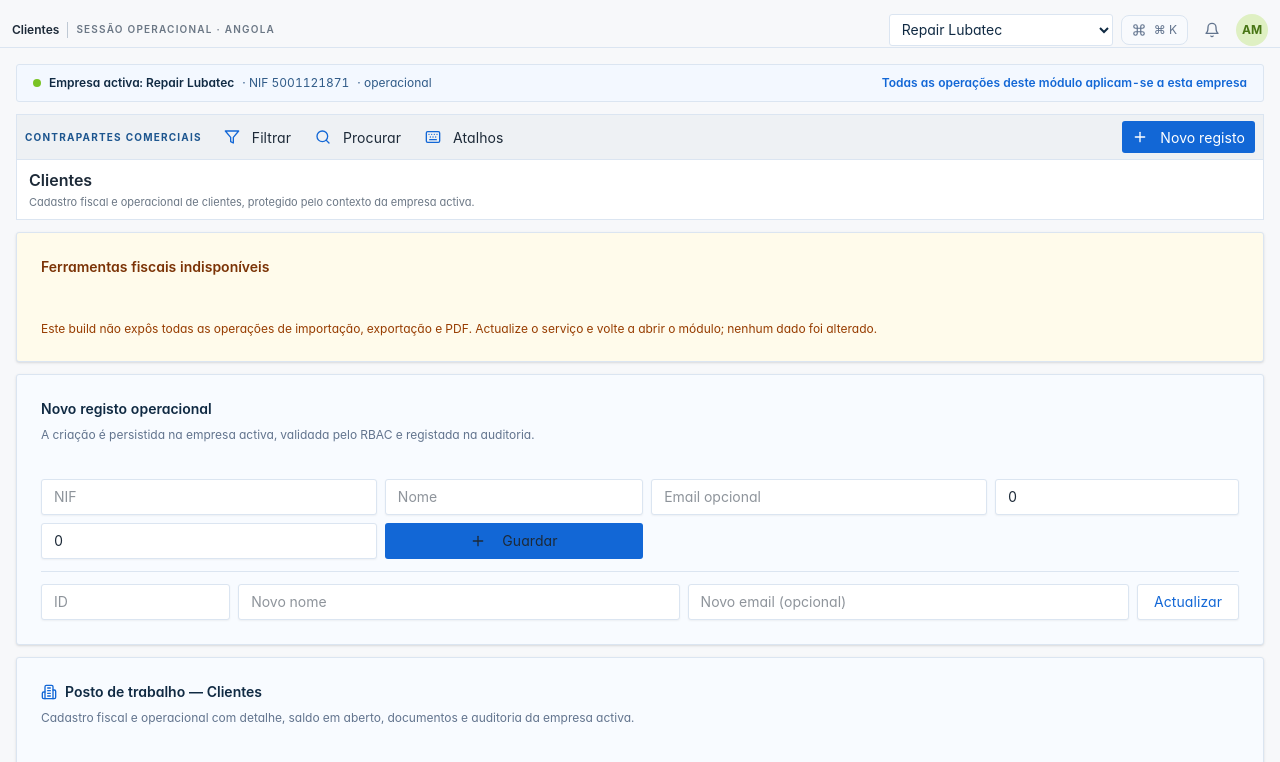
Test: Home traceability integration › shows success feedback after create and update mutations
The width and height of the screenshot is (1280, 762).
Type "Cliente UI" into the field with placeholder "Nome". click: point(514, 496)
box: left=385, top=478, right=643, bottom=514
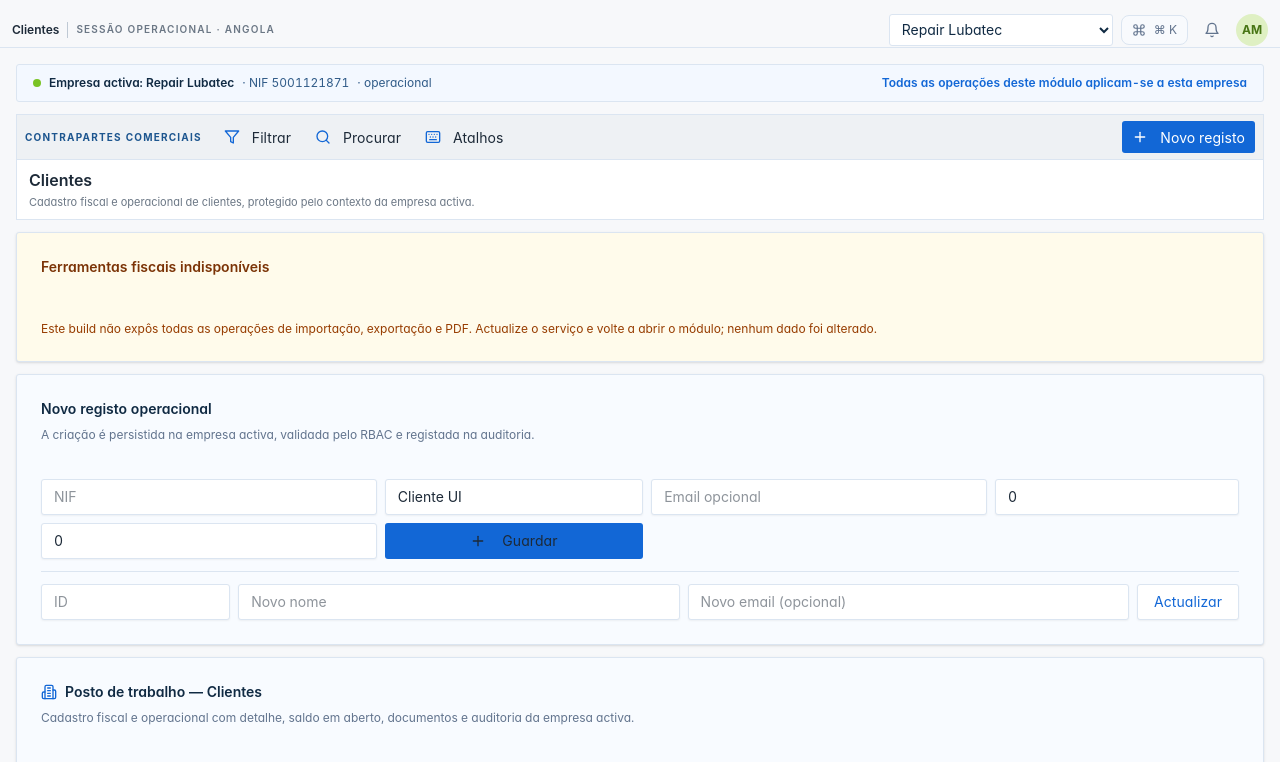
Click the button "Guardar". click: point(514, 540)
box: left=385, top=522, right=643, bottom=558
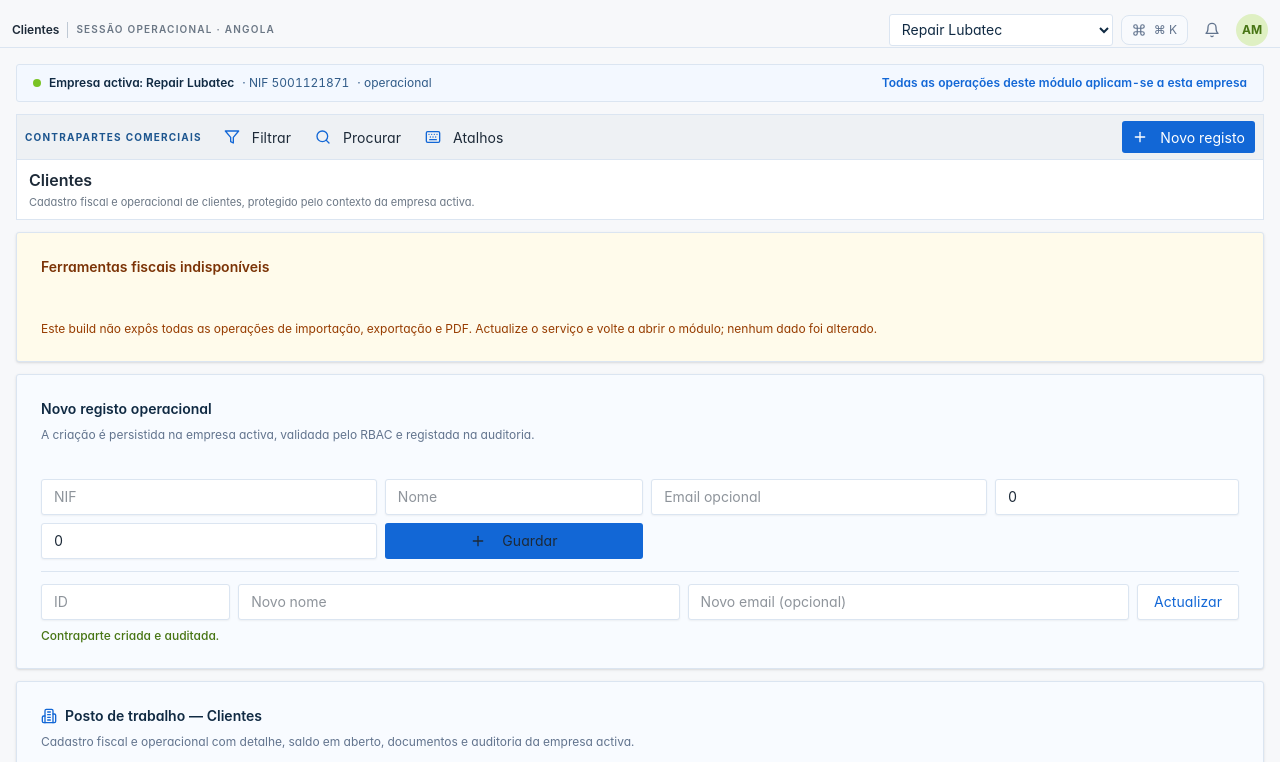
Check: the text "Contraparte criada e auditada." is shown, box left=41, top=628, right=219, bottom=642
Type "1" into the field with placeholder "ID". click: point(136, 602)
box: left=41, top=584, right=230, bottom=620
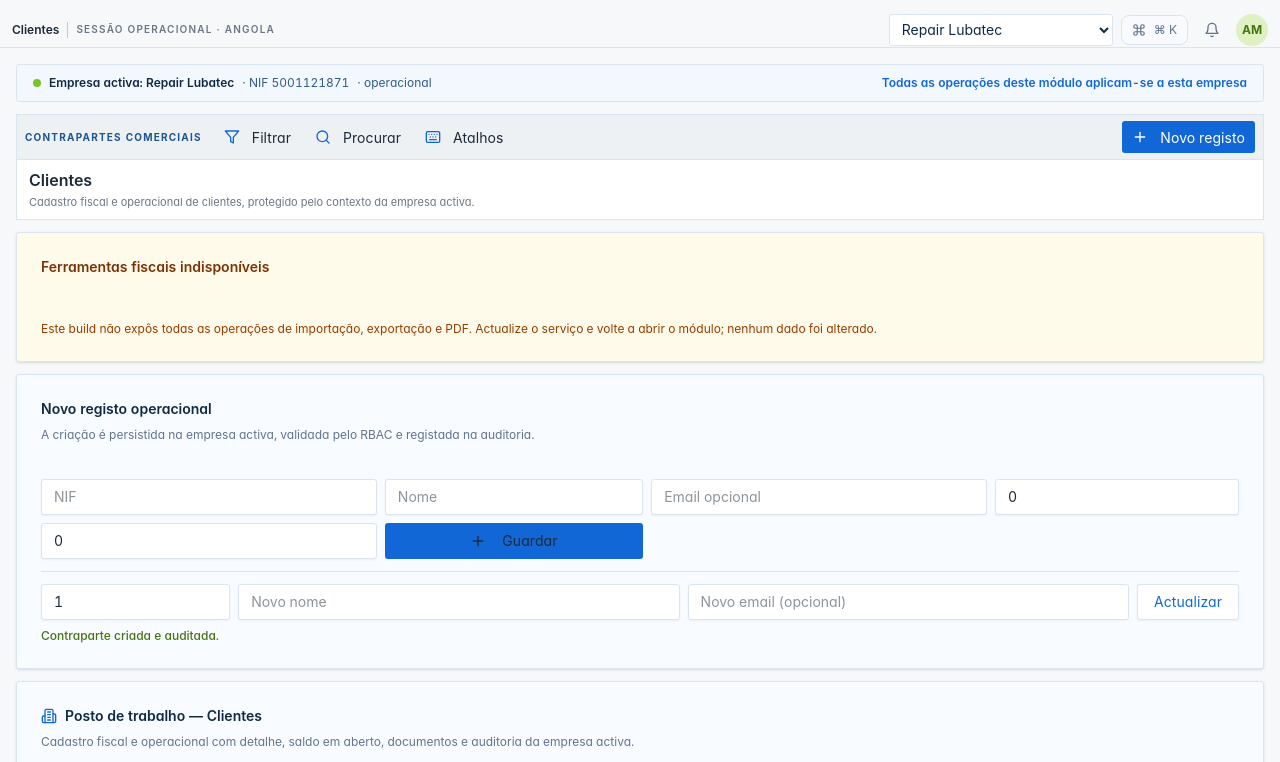
Type "Cliente UI actualizado" into the field with placeholder "Novo nome". click: point(459, 602)
box: left=238, top=584, right=680, bottom=620
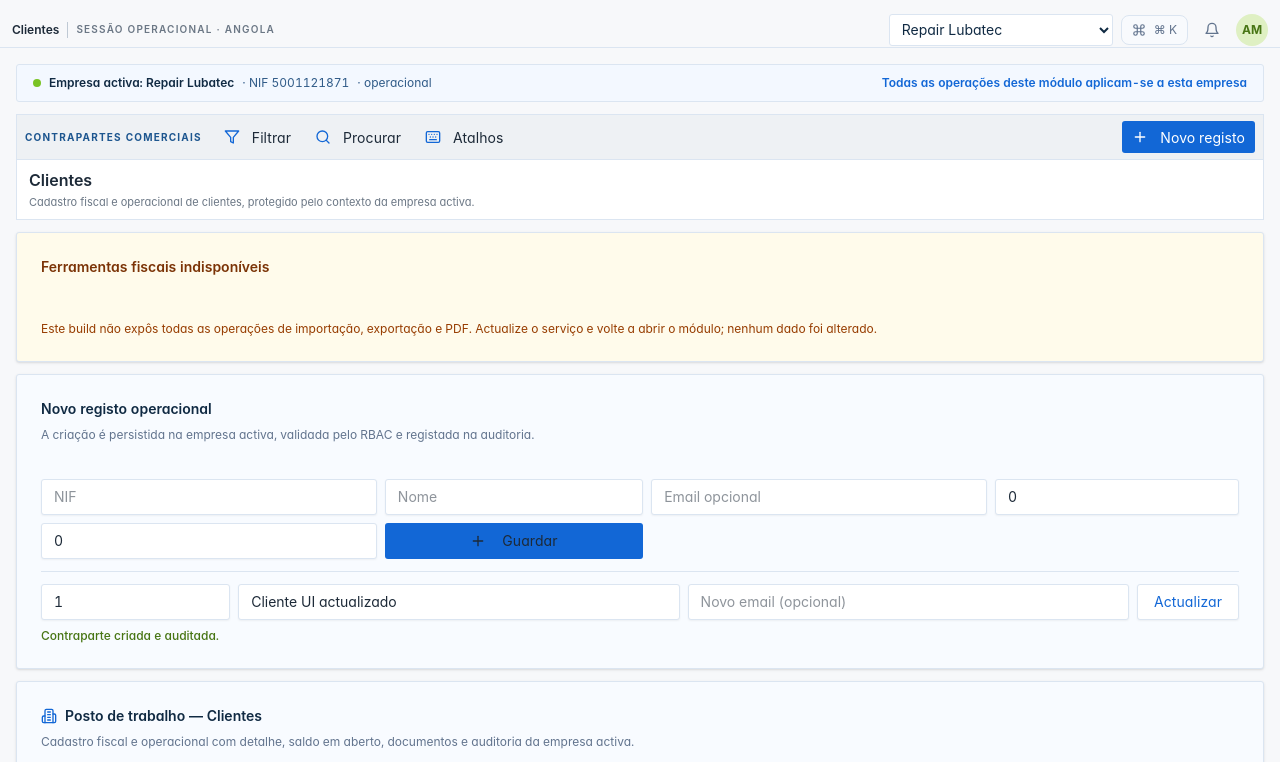
Click the button "Actualizar". click: point(1188, 602)
box: left=1137, top=584, right=1239, bottom=620
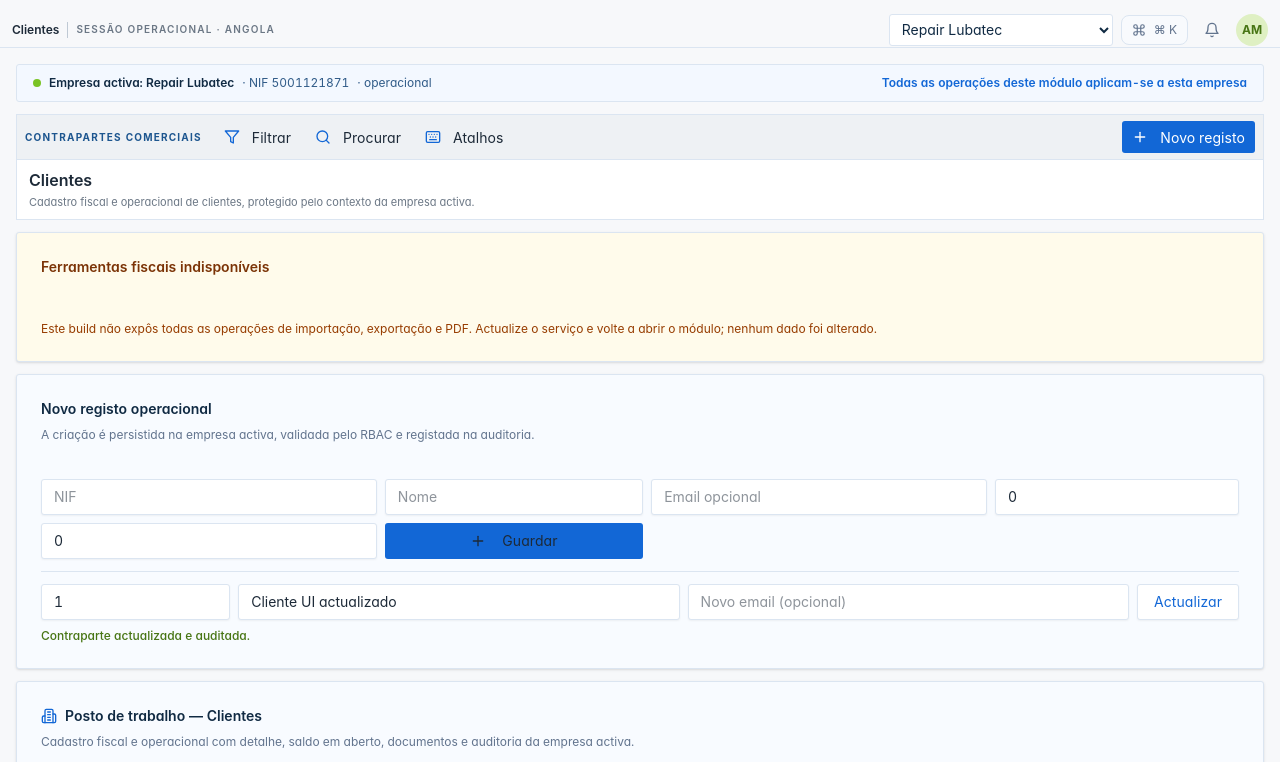
Check: the text "Contraparte actualizada e auditada." is shown, box left=41, top=628, right=250, bottom=642
